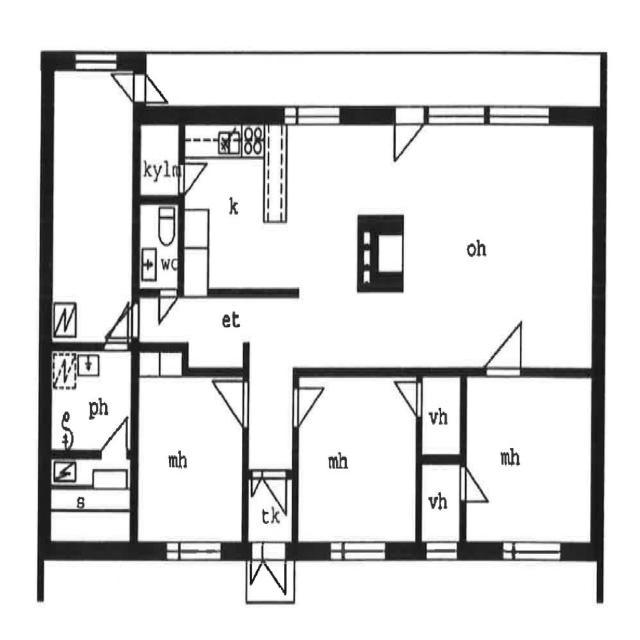door: (481, 316, 528, 378), (388, 102, 425, 161), (98, 418, 131, 465), (394, 374, 426, 422), (257, 466, 290, 511), (111, 303, 138, 348), (174, 156, 202, 198), (154, 286, 179, 324), (289, 382, 306, 434)
window: (484, 95, 556, 134), (494, 535, 568, 569), (280, 99, 346, 133), (325, 535, 391, 567), (67, 44, 126, 79), (426, 97, 488, 130), (158, 537, 226, 566), (422, 537, 462, 565), (288, 382, 304, 434)
zone: (390, 117, 599, 372), (460, 372, 595, 554), (50, 65, 136, 342), (296, 371, 418, 552), (134, 356, 244, 554), (180, 118, 283, 296), (48, 346, 134, 456), (46, 452, 134, 547), (137, 200, 180, 292), (419, 460, 464, 547), (418, 371, 462, 458), (136, 119, 182, 198)
